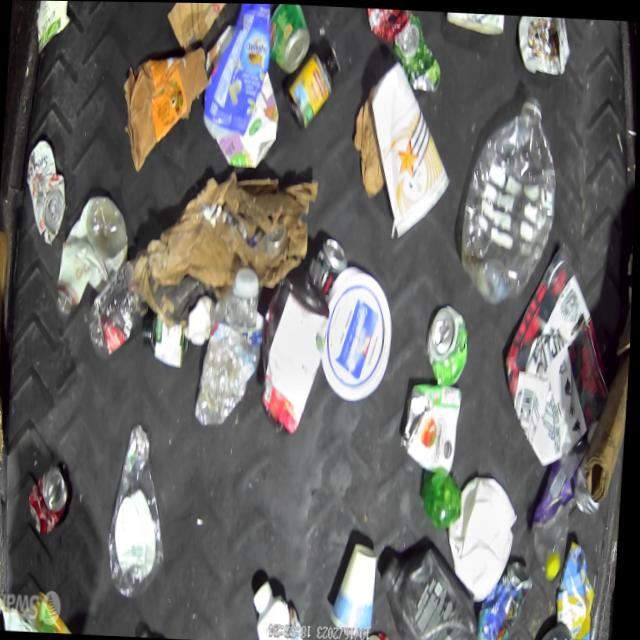can: (402, 379, 463, 471), (23, 138, 69, 245), (478, 558, 535, 640), (389, 9, 443, 91), (425, 302, 470, 383), (513, 12, 572, 73), (266, 3, 311, 73), (29, 463, 70, 535), (312, 236, 348, 297), (364, 5, 410, 41), (363, 628, 396, 640)
non_white_jug: (257, 273, 332, 434), (377, 539, 485, 640), (201, 2, 271, 139)
plastic_bottle: (457, 90, 560, 303), (106, 421, 174, 598), (195, 262, 266, 427), (87, 259, 147, 357), (532, 453, 579, 578)
